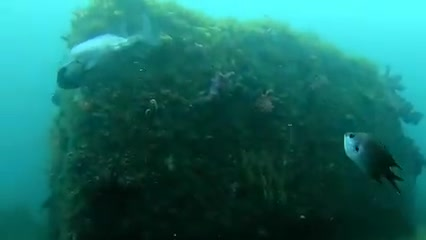mezina: (344, 126, 413, 198)
smallfish: (53, 26, 146, 89)
